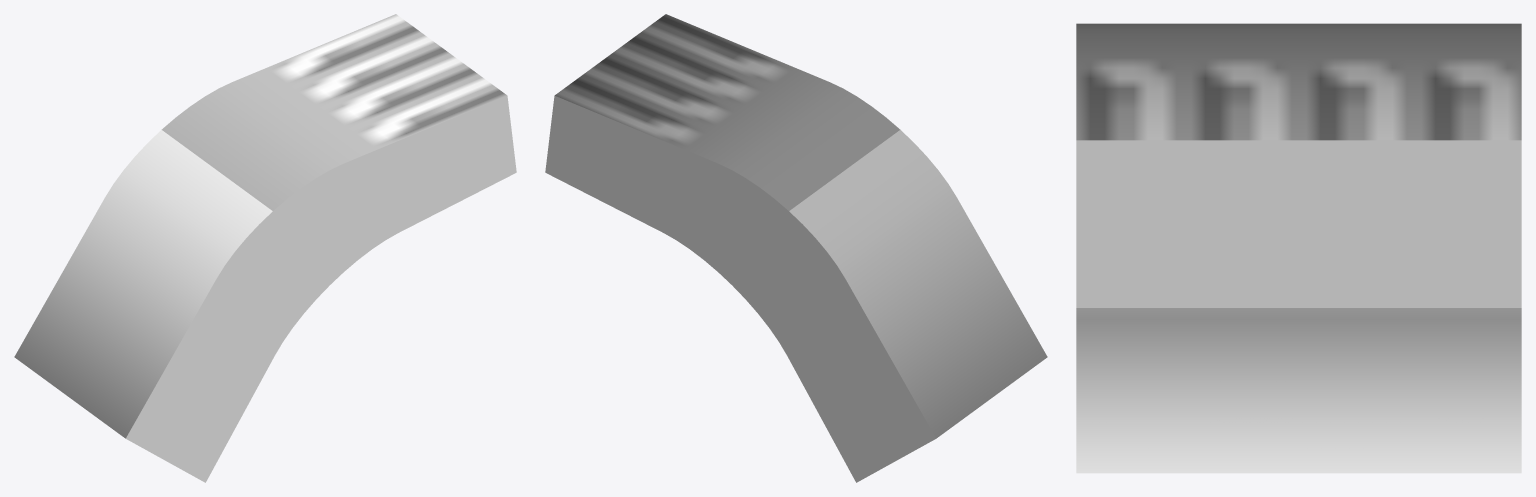
Rendered from lem6_alt.obj.
3 renders of one model, left to right at view 1: azimuth 30°, elevation 25°; view 2: azimuth 150°, elevation 25°; view 3: azimuth 270°, elevation 25°, orthographic. The views are drawn at different scales.
Parts seen in each view (by area): view 1: ColobotMesh_1_ColobotMesh_; view 2: ColobotMesh_1_ColobotMesh_; view 3: ColobotMesh_1_ColobotMesh_.
Boxes of the visible parts, x1,y1,x2,y2 form: ColobotMesh_1_ColobotMesh_: (14, 14, 516, 482); ColobotMesh_1_ColobotMesh_: (545, 14, 1047, 482); ColobotMesh_1_ColobotMesh_: (1076, 23, 1521, 473).
Size of the model in its own units: 2.03 by 1.55 by 1.
